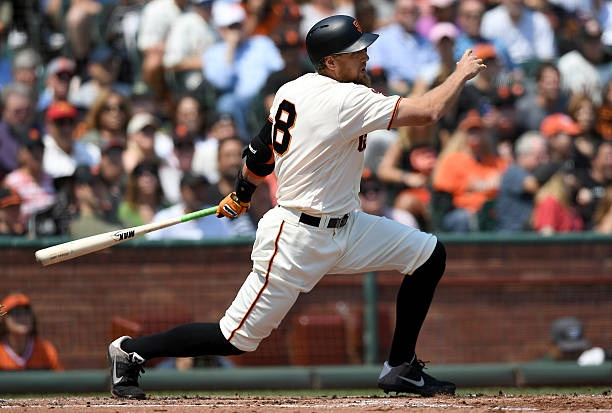bita: (37, 199, 237, 264)
